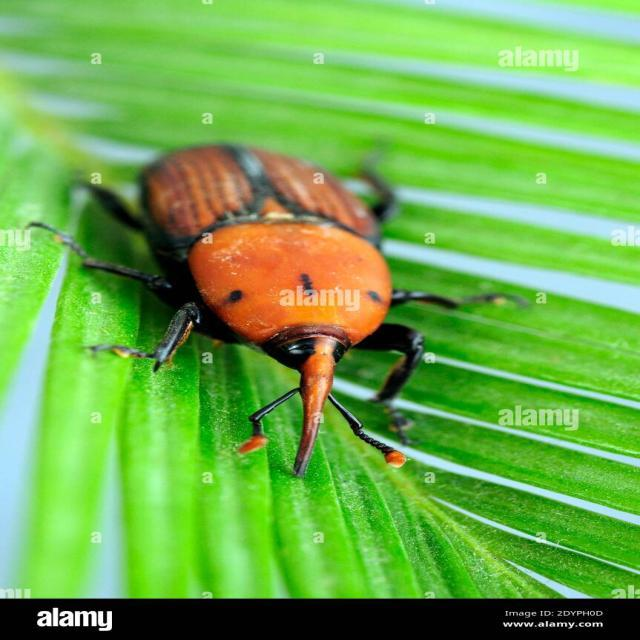Red-palm-weevil: (134, 137, 425, 479)
